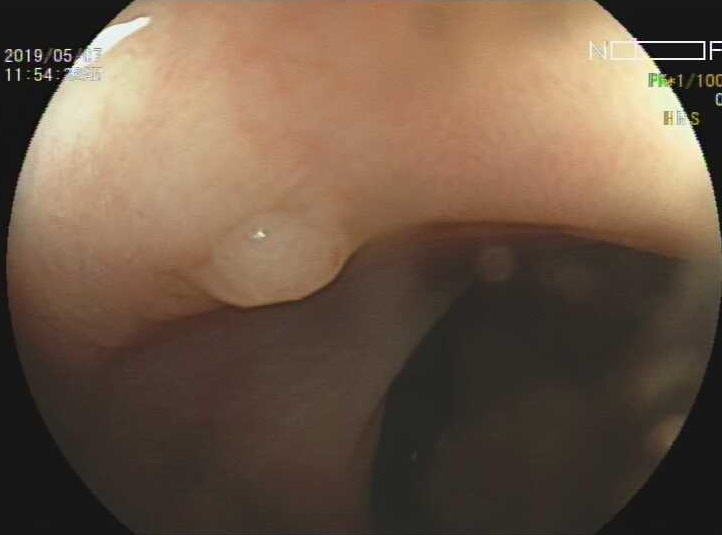adenoma: (182, 209, 357, 307)
